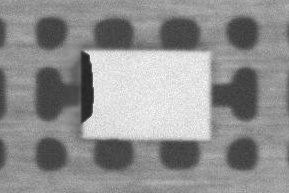DIE_BROKEN: (78, 48, 93, 124)
